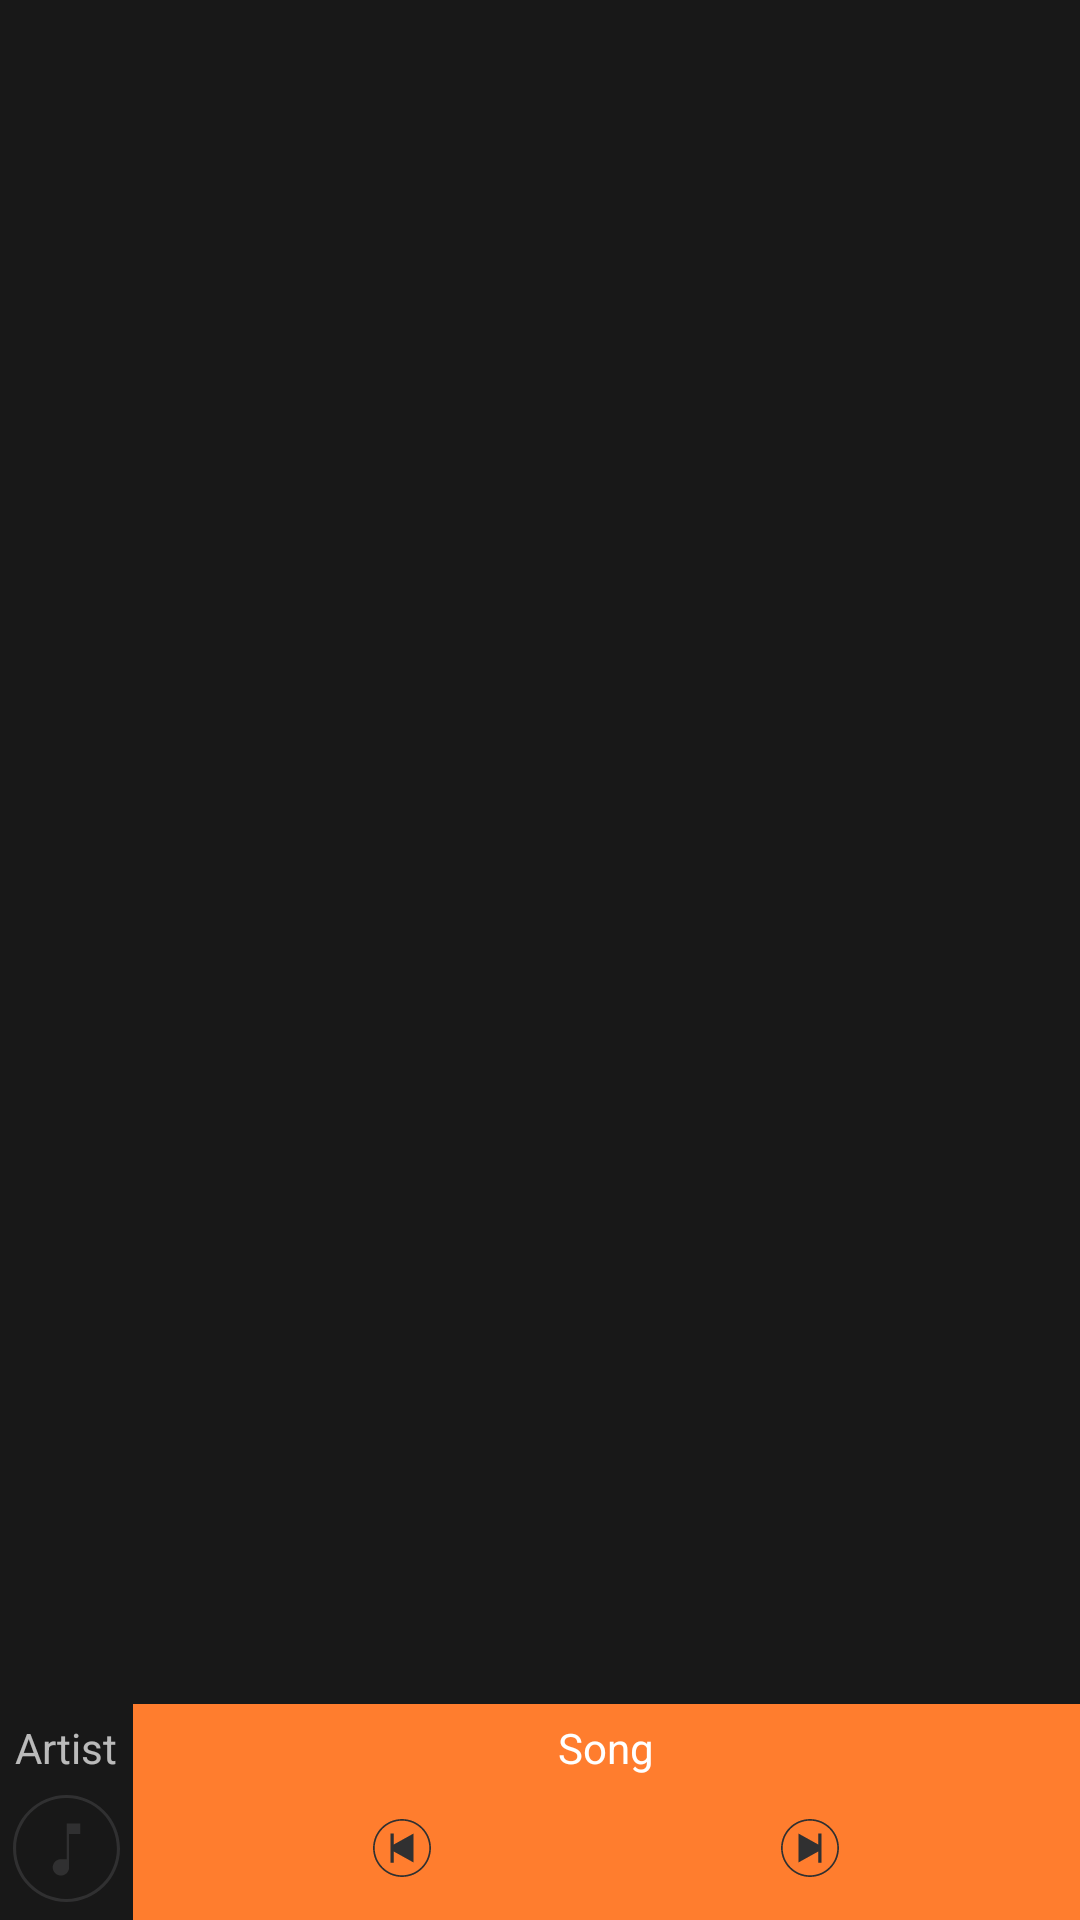

Point at icon controls on the screen. Image size 1080w x 1920h, points as [x,y].
next: [810,1848]
prev: [402,1848]
song: [66,1848]
